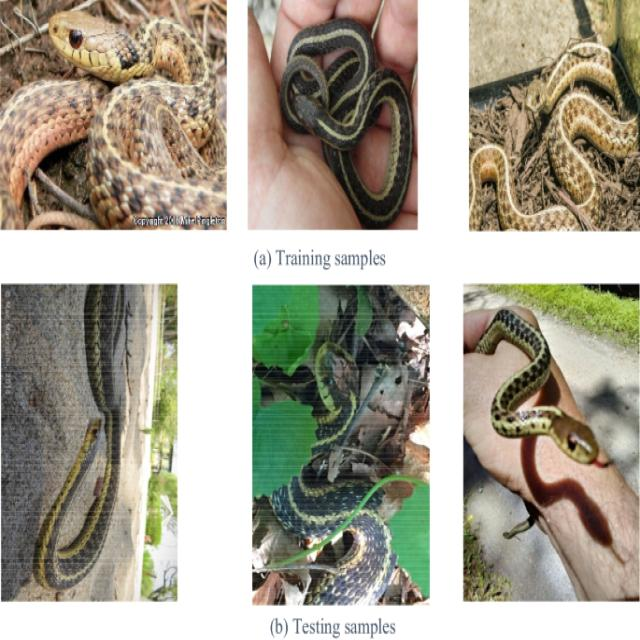Snake: (473, 37, 631, 223), (30, 285, 127, 583), (473, 305, 607, 471)
